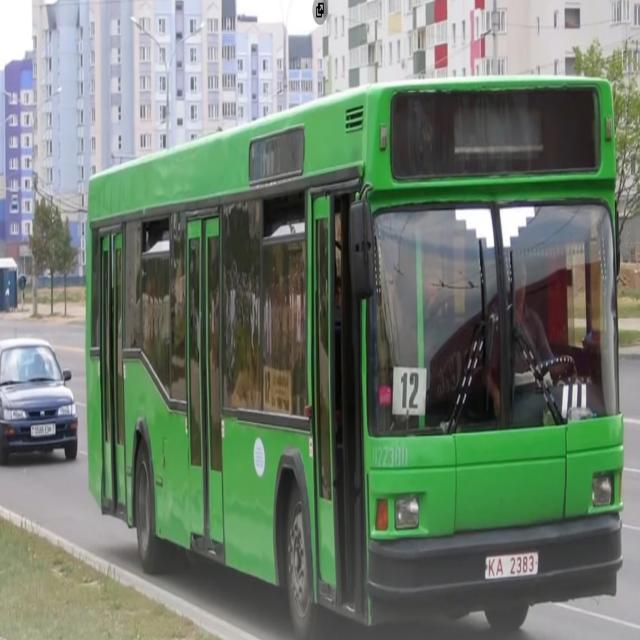bus: (83, 73, 640, 640)
